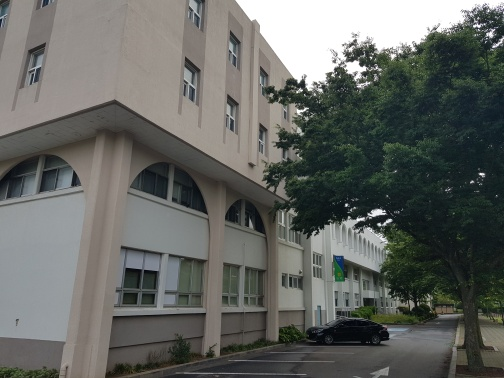Main Building of University: (5, 6, 415, 329), (124, 154, 274, 241), (174, 6, 246, 169), (330, 251, 348, 287)
